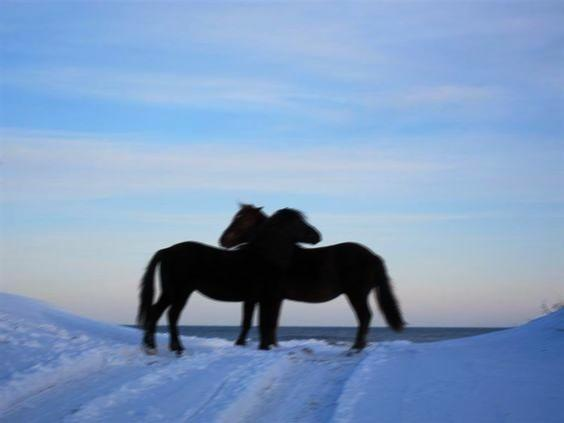horse: (134, 202, 322, 356), (218, 201, 407, 354)
